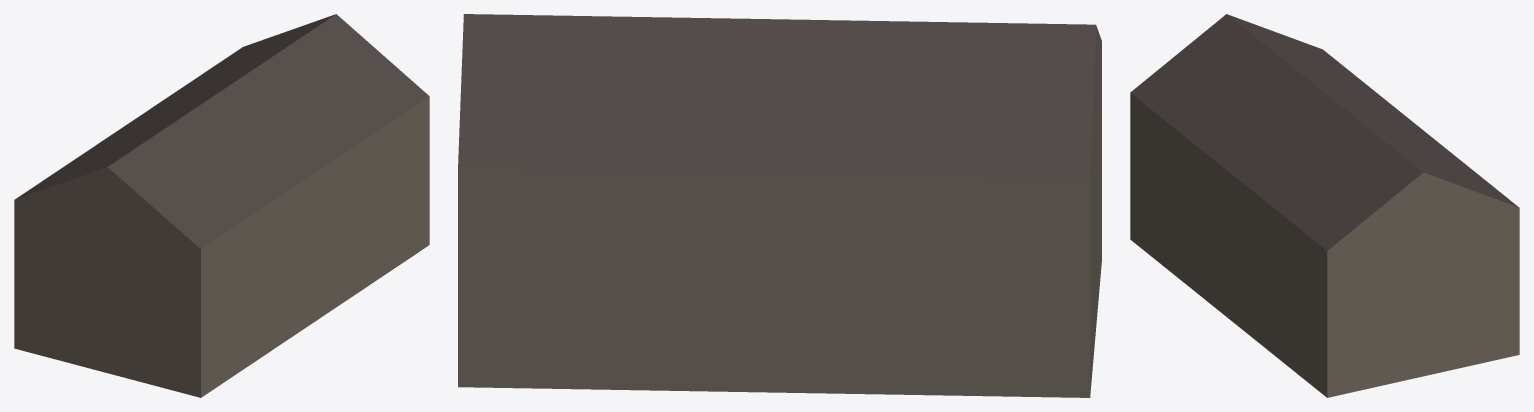
The picture shows the model from 3 angles, left to right: view 1: azimuth 30°, elevation 25°; view 2: azimuth 150°, elevation 25°; view 3: azimuth 270°, elevation 25°; orthographic projection. The views are drawn at different scales.
Parts seen in each view (by area): view 1: HP-w859088515; view 2: HP-w859088515; view 3: HP-w859088515.
Part boxes in pixels (x1,y1,x2,y2): HP-w859088515: (14,14,429,397); HP-w859088515: (458,14,1101,397); HP-w859088515: (1130,14,1519,397).
Size of the model in its own units: 26.5 by 12.5 by 21.63.
